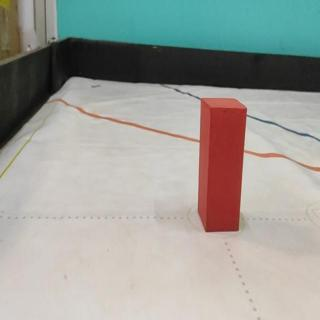redbox: (197, 97, 248, 234)
